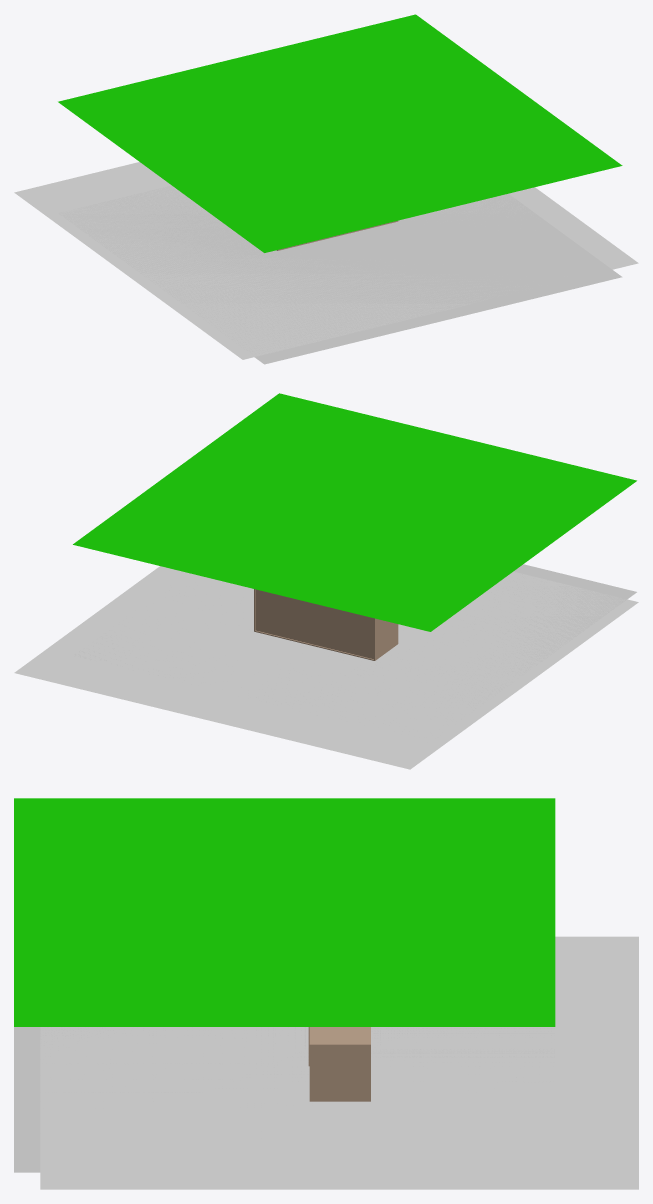
File: cupboard.dae
3 views of the same model, one above another, from view 1: azimuth 30°, elevation 25°; view 2: azimuth 150°, elevation 25°; view 3: azimuth 270°, elevation 25° (orthographic). The views are drawn at different scales.
Visible parts, largest first — view 1: Plane, FloorProjection, floor; view 2: Plane, floor, FloorProjection, cupboard; view 3: Plane, floor, FloorProjection, cupboard.
Boxes of the visible parts, x1=… form: Plane: x1=58, y1=14, x2=622, y2=252; FloorProjection: x1=58, y1=185, x2=622, y2=364; floor: x1=14, y1=162, x2=638, y2=359; Plane: x1=73, y1=393, x2=636, y2=631; floor: x1=14, y1=566, x2=638, y2=769; FloorProjection: x1=74, y1=564, x2=636, y2=742; cupboard: x1=254, y1=589, x2=398, y2=660; Plane: x1=14, y1=798, x2=555, y2=1026; floor: x1=40, y1=936, x2=638, y2=1189; FloorProjection: x1=14, y1=1027, x2=554, y2=1172; cupboard: x1=309, y1=1027, x2=370, y2=1101.
Bounding box in the file's own units: 4 × 4.18 × 1.07.
